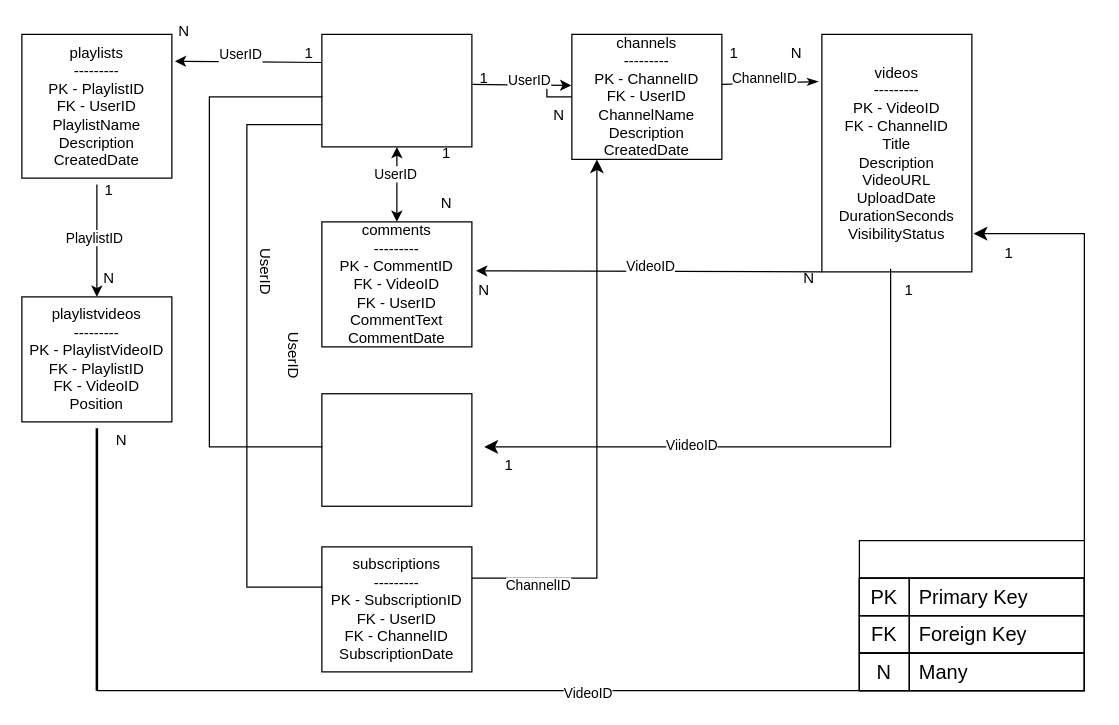
Image size: 1119x725. Some labels were removed from this diagram. Each missing label, with the box of its shape:
Legend:: (858, 539, 1084, 691)
likes --------- PK - LikeID FK - VideoID FK - UserID LikeDate: (321, 392, 472, 506)
users --------- PK - UserID Username Email RegistrationDate: (321, 33, 472, 147)
